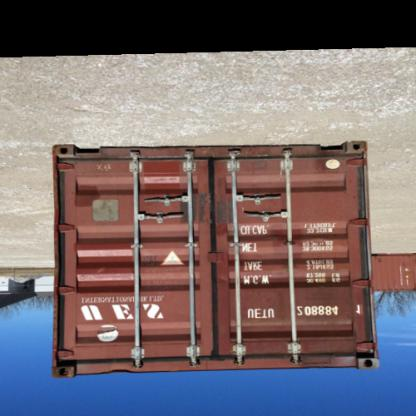Damage: (175, 191, 231, 232), (312, 150, 344, 178), (102, 363, 136, 383), (87, 264, 117, 286), (352, 350, 376, 370)
